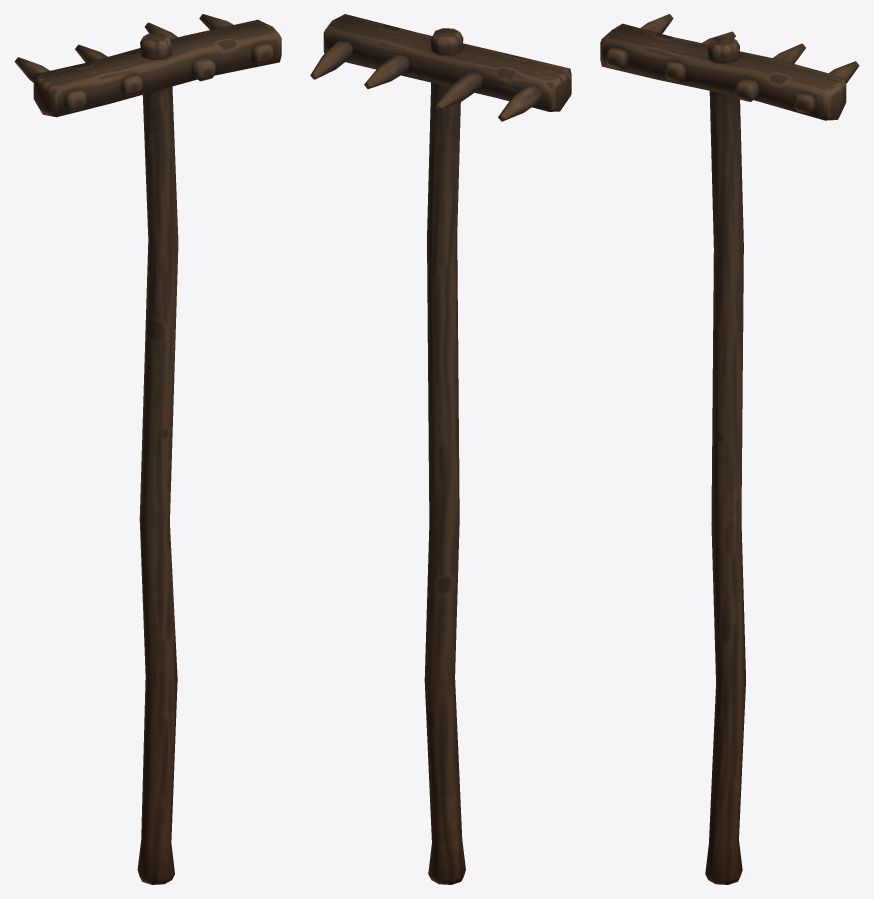
Rendered from ironRake.fbx.
3 renders of one model, left to right at view 1: azimuth 30°, elevation 25°; view 2: azimuth 150°, elevation 25°; view 3: azimuth 330°, elevation 25°, orthographic.
Parts seen in each view (by area): view 1: Rake_01; view 2: Rake_01; view 3: Rake_01.
Part boxes in pixels (left/top/right/bottom): Rake_01: left=14, top=14, right=281, bottom=884; Rake_01: left=310, top=14, right=571, bottom=884; Rake_01: left=600, top=14, right=859, bottom=884.
Bounding box in the file's own units: 44.92 × 154 × 19.93.
